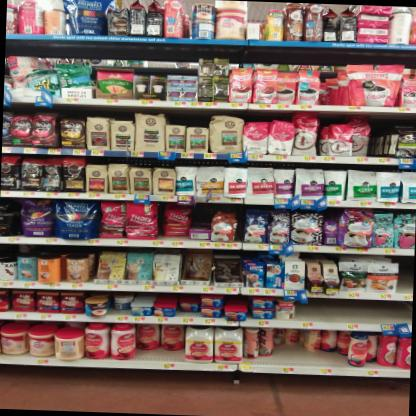empty_space: (369, 112, 392, 157), (397, 256, 415, 294), (360, 300, 384, 326), (337, 298, 360, 324), (382, 300, 404, 327), (294, 297, 317, 322), (317, 297, 338, 322), (404, 301, 413, 327)
